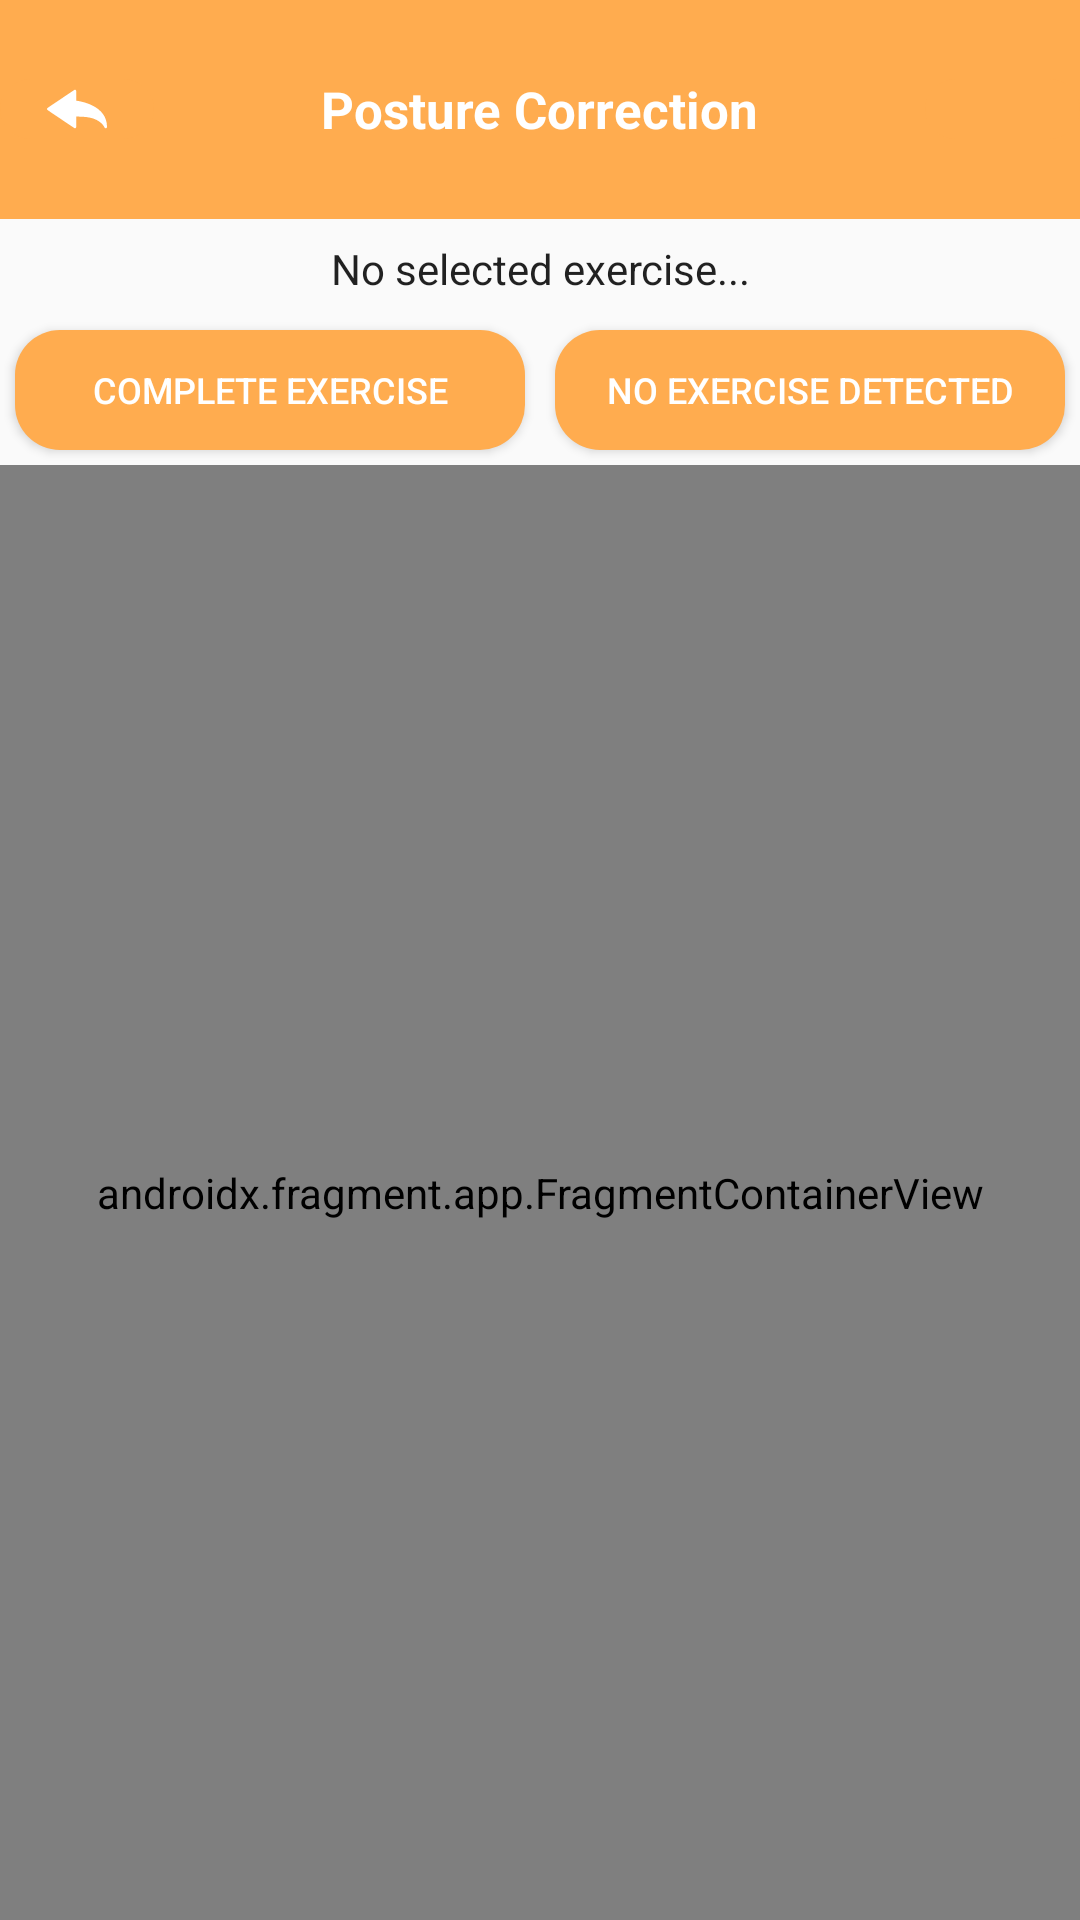

Where to tap for icons on this 1080w x 1920h app screen, as [x,y]:
back arrow: [77,109]
